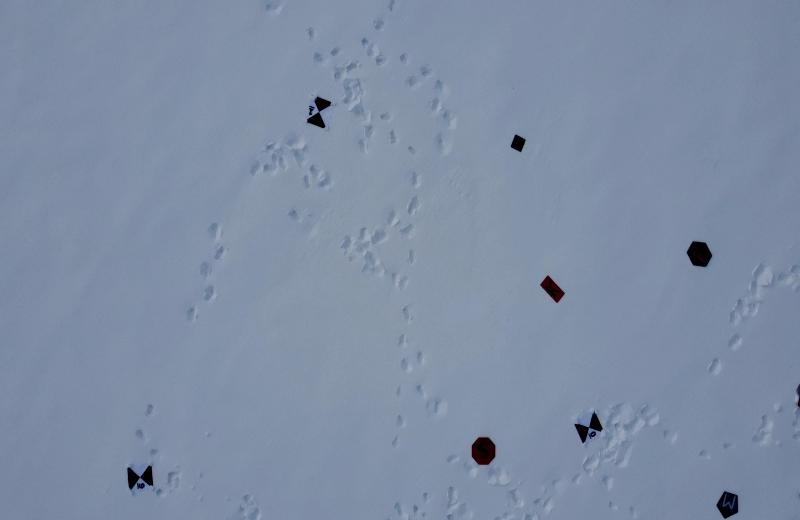Hexagon: (686, 234, 717, 270)
Octagon: (470, 434, 499, 468)
Pentagon: (713, 488, 741, 520)
Rectangle: (540, 271, 569, 305)
Square: (504, 132, 526, 156)
